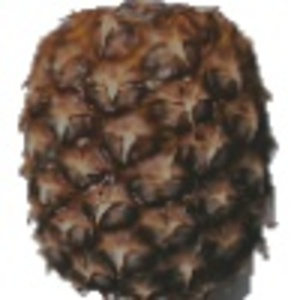abacaxi: (12, 3, 283, 292)
